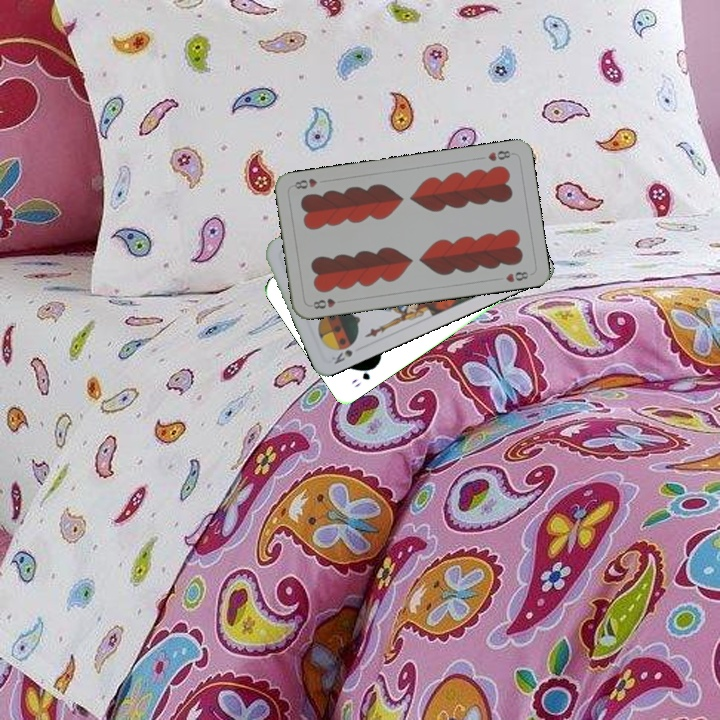GO: (347, 361, 379, 390)
H8: (484, 146, 516, 164), (307, 294, 338, 312)
SK: (327, 345, 355, 367)
